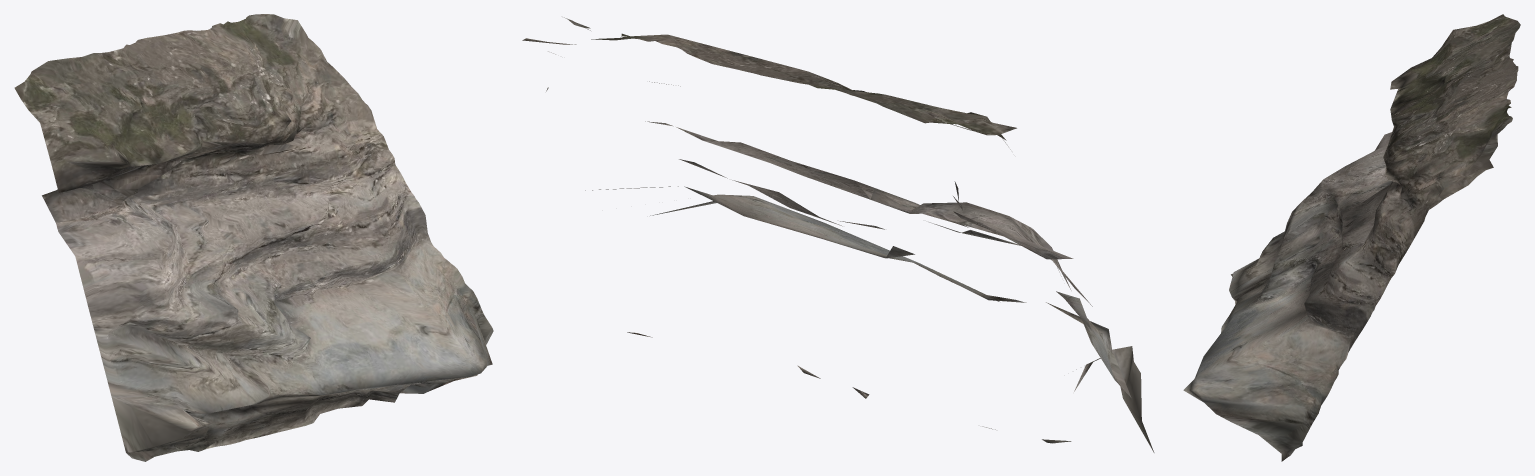
File: cliff_a_lod2.glb
The picture shows the model from 3 angles, left to right: view 1: azimuth 30°, elevation 25°; view 2: azimuth 150°, elevation 25°; view 3: azimuth 270°, elevation 25°; orthographic projection. The views are drawn at different scales.
Visible parts, largest first — view 1: cliff_a_lod2; view 2: cliff_a_lod2; view 3: cliff_a_lod2.
Part boxes in pixels (bbox=[...]): cliff_a_lod2: bbox=[14, 14, 493, 461]; cliff_a_lod2: bbox=[522, 17, 1154, 452]; cliff_a_lod2: bbox=[1183, 14, 1520, 461].
Size of the model in its own units: 31.93 by 24.93 by 25.48.
1 material, 1 textured.
